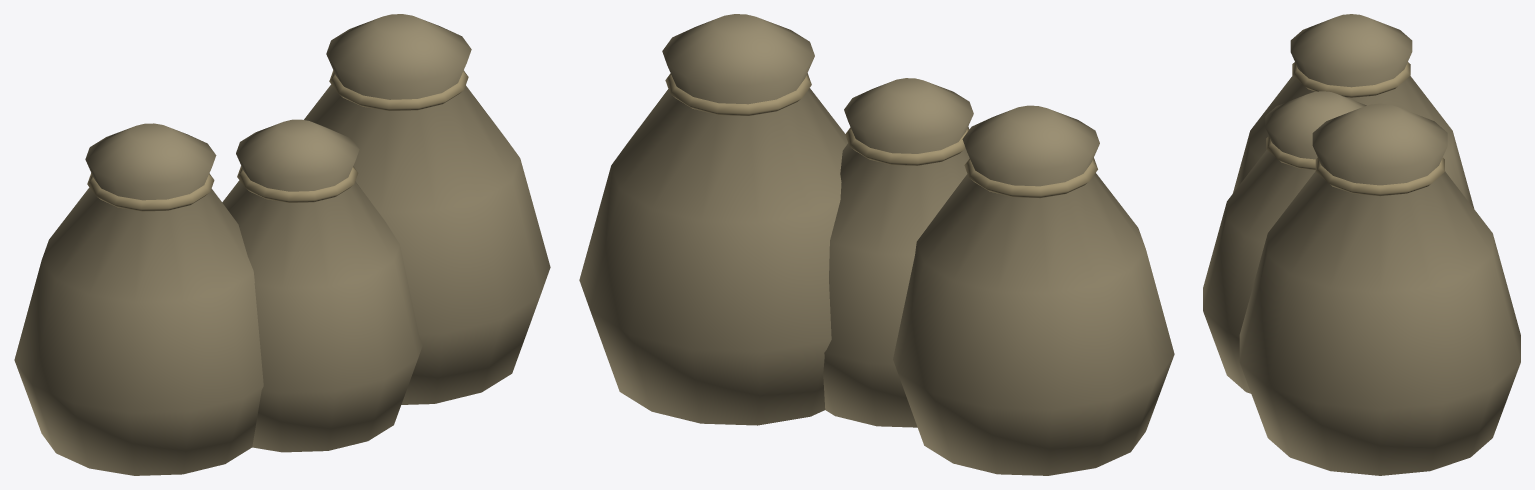
The model's file is sack_pile.glb.
3 views of the same model, side by side, from view 1: azimuth 30°, elevation 25°; view 2: azimuth 150°, elevation 25°; view 3: azimuth 270°, elevation 25° (orthographic). The views are drawn at different scales.
Visible parts, largest first — view 1: GD_sack_pile__m0, GD_sack_pile__m1; view 2: GD_sack_pile__m0, GD_sack_pile__m1; view 3: GD_sack_pile__m0, GD_sack_pile__m1.
Part boxes in pixels (box(x1,y1,x2,y2)): GD_sack_pile__m0: box(14, 14, 550, 475); GD_sack_pile__m1: box(87, 70, 468, 211); GD_sack_pile__m0: box(579, 14, 1174, 475); GD_sack_pile__m1: box(665, 73, 1097, 198); GD_sack_pile__m0: box(1203, 14, 1520, 475); GD_sack_pile__m1: box(1266, 62, 1444, 196).
Size of the model in its own units: 0.975 by 0.6 by 0.5509.
